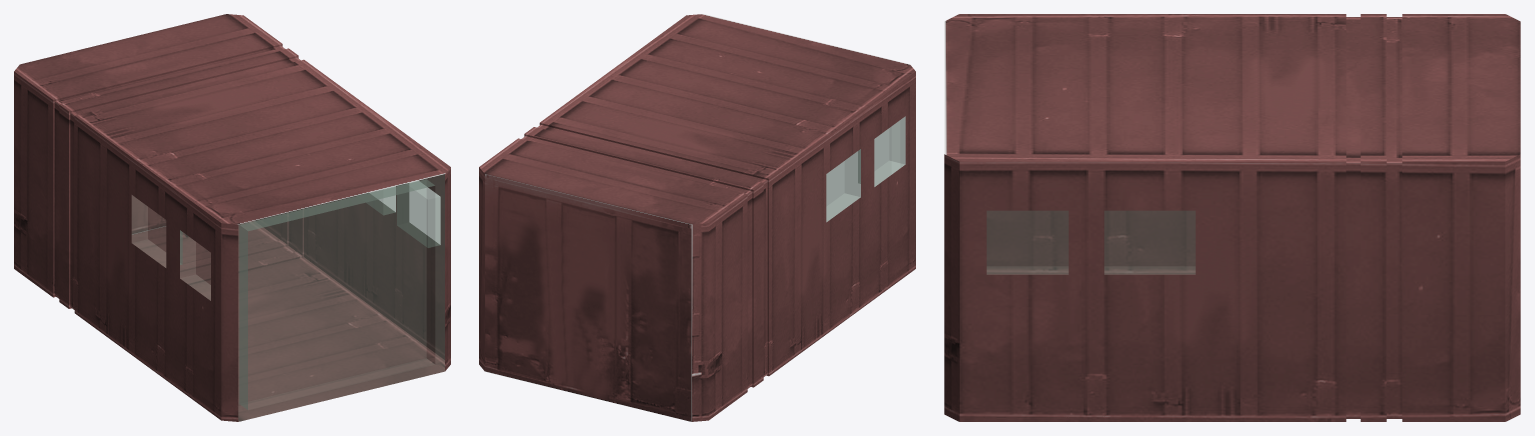
Rendered from Container_3.fbx.
3 renders of one model, left to right at view 1: azimuth 30°, elevation 25°; view 2: azimuth 150°, elevation 25°; view 3: azimuth 270°, elevation 25°, orthographic. The views are drawn at different scales.
Visible parts, largest first — view 1: pCube71; view 2: pCube71; view 3: pCube71.
Boxes of the visible parts, x1,y1,x2,y2 form: pCube71: (14,14,450,421); pCube71: (479,14,915,421); pCube71: (944,14,1520,421).
Bounding box in the file's own units: 4.63 × 3.81 × 7.63.
Materials: 2 (1 with a texture image).
